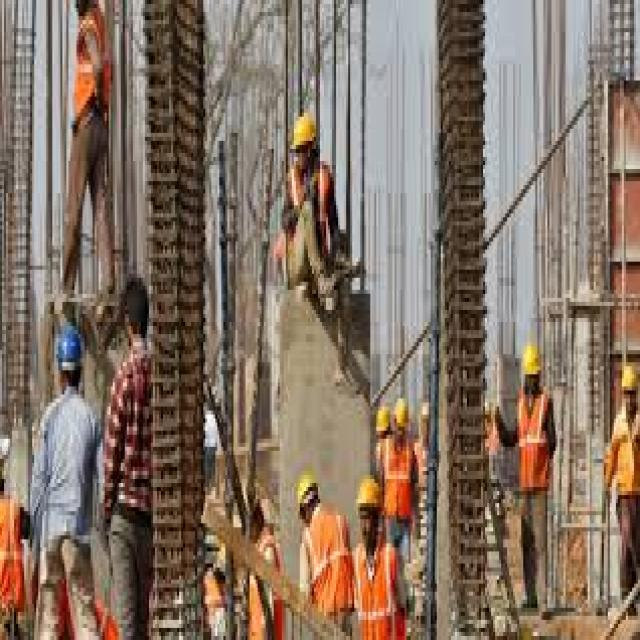Reflective-Jacket: (278, 161, 340, 302), (300, 507, 352, 628), (70, 8, 115, 133), (350, 539, 403, 640), (511, 387, 554, 503), (378, 435, 416, 527), (2, 483, 24, 616), (612, 407, 640, 507)
Safety-Helmet: (52, 318, 86, 378), (292, 459, 326, 515), (288, 105, 320, 161), (352, 467, 384, 519), (520, 334, 546, 387), (392, 394, 412, 439), (372, 398, 392, 439), (620, 358, 640, 399)
